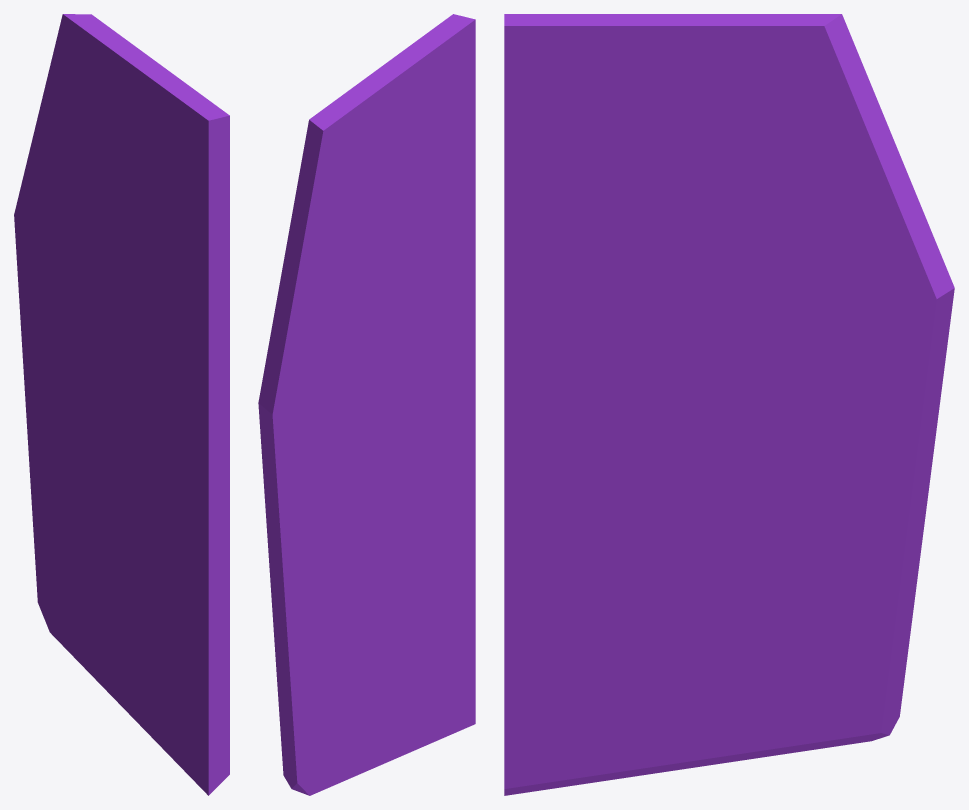
The model's file is Glass_82_15_chunks.fbx.
3 views of the same model, side by side, from view 1: azimuth 30°, elevation 25°; view 2: azimuth 150°, elevation 25°; view 3: azimuth 270°, elevation 25° (orthographic). The views are drawn at different scales.
Parts seen in each view (by area): view 1: Glass_82_15_0, Glass_82_15_2, Glass_82_15_1, Glass_82_15_3; view 2: Glass_82_15_0, Glass_82_15_2, Glass_82_15_3, Glass_82_15_1; view 3: Glass_82_15_0, Glass_82_15_2, Glass_82_15_3, Glass_82_15_1.
Part boxes in pixels (bbox=[...]): Glass_82_15_0: bbox=[51, 14, 229, 496]; Glass_82_15_2: bbox=[42, 404, 229, 795]; Glass_82_15_1: bbox=[19, 304, 102, 613]; Glass_82_15_3: bbox=[14, 60, 89, 366]; Glass_82_15_0: bbox=[300, 14, 475, 477]; Glass_82_15_2: bbox=[280, 412, 475, 795]; Glass_82_15_3: bbox=[258, 172, 351, 536]; Glass_82_15_1: bbox=[267, 457, 364, 787]; Glass_82_15_0: bbox=[504, 14, 867, 449]; Glass_82_15_2: bbox=[504, 432, 894, 795]; Glass_82_15_3: bbox=[747, 76, 954, 465]; Glass_82_15_1: bbox=[788, 387, 941, 726].
Size of the model in its own units: 27.2 by 823 by 430.
